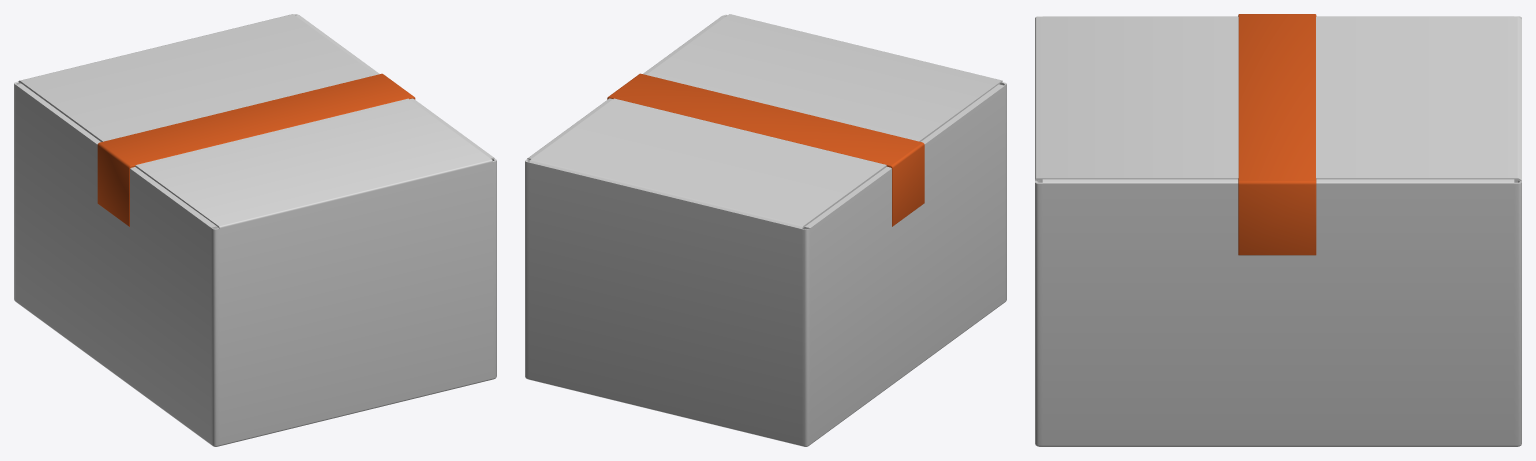
The model's file is Packed cardboard box.fbx.
3 renders of one model, left to right at view 1: azimuth 30°, elevation 25°; view 2: azimuth 150°, elevation 25°; view 3: azimuth 270°, elevation 25°, orthographic. The views are drawn at different scales.
Parts seen in each view (by area): view 1: PACKED BOX.002; view 2: PACKED BOX.002; view 3: PACKED BOX.002.
Boxes of the visible parts, bbox=[...] form: PACKED BOX.002: bbox=[14, 14, 496, 446]; PACKED BOX.002: bbox=[525, 14, 1006, 446]; PACKED BOX.002: bbox=[1035, 14, 1521, 446].
Size of the model in its own units: 31.77 by 23.4 by 38.67.
